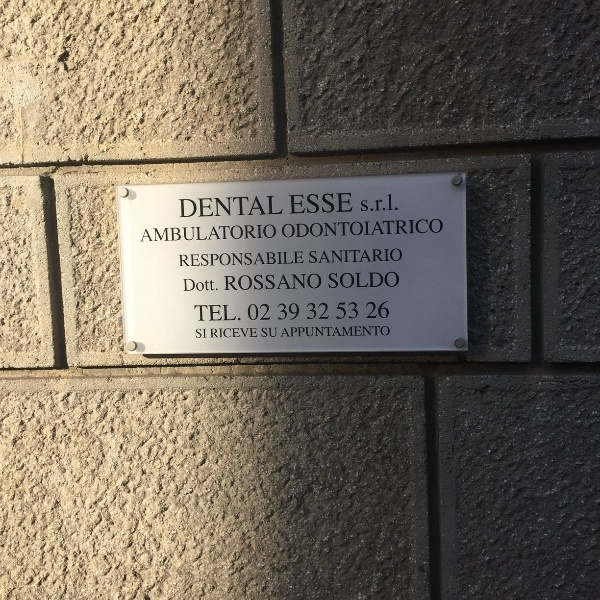text: (193, 196, 208, 221), (209, 196, 224, 221), (225, 196, 240, 221), (241, 196, 256, 221), (257, 196, 272, 221), (289, 192, 304, 216), (305, 192, 320, 216), (321, 192, 336, 216), (337, 192, 352, 216), (385, 270, 401, 292), (178, 196, 192, 221), (257, 301, 272, 324), (369, 299, 384, 322), (289, 218, 304, 240), (305, 218, 320, 240), (321, 218, 336, 240), (337, 218, 352, 240), (353, 218, 368, 240), (369, 218, 384, 240), (385, 218, 400, 240), (401, 218, 416, 240), (417, 218, 432, 240), (225, 271, 240, 293), (241, 271, 256, 293), (257, 271, 272, 293), (273, 271, 288, 293), (289, 271, 304, 293), (305, 271, 320, 293), (337, 270, 352, 292), (353, 270, 368, 292), (369, 270, 384, 292), (193, 302, 208, 324), (209, 302, 224, 324), (225, 302, 240, 324), (337, 300, 352, 322), (369, 192, 384, 213), (305, 301, 320, 322), (273, 196, 285, 221), (289, 301, 302, 324), (385, 192, 399, 213), (161, 224, 176, 243), (177, 224, 192, 243), (193, 224, 208, 243), (209, 224, 224, 243), (225, 224, 240, 243), (241, 224, 256, 243), (257, 224, 272, 243), (276, 301, 288, 324), (146, 224, 160, 243), (193, 251, 208, 268), (209, 251, 224, 268), (225, 251, 240, 268), (241, 251, 256, 268), (257, 251, 272, 268), (273, 251, 288, 268), (289, 251, 304, 268), (321, 248, 336, 265), (337, 248, 352, 265), (353, 248, 368, 265), (369, 248, 384, 265), (385, 248, 400, 265), (193, 277, 208, 294), (433, 218, 444, 240), (246, 301, 256, 324), (179, 251, 192, 268), (321, 301, 331, 322), (289, 325, 304, 339), (305, 325, 320, 339), (321, 325, 336, 339), (337, 325, 352, 339), (353, 325, 368, 339), (369, 325, 384, 339), (327, 270, 336, 292), (309, 248, 320, 265), (225, 327, 240, 339), (241, 327, 256, 339), (209, 277, 219, 294), (195, 328, 208, 341), (210, 327, 224, 339), (353, 300, 360, 322), (183, 277, 192, 294), (361, 192, 368, 213), (261, 326, 272, 339), (385, 299, 391, 322), (282, 218, 288, 240), (281, 325, 288, 339), (385, 325, 391, 339), (273, 326, 279, 339), (365, 299, 368, 322), (241, 302, 244, 324), (273, 224, 276, 243), (321, 271, 323, 293), (401, 248, 403, 265), (353, 192, 354, 216), (257, 327, 259, 339), (223, 271, 224, 293)
